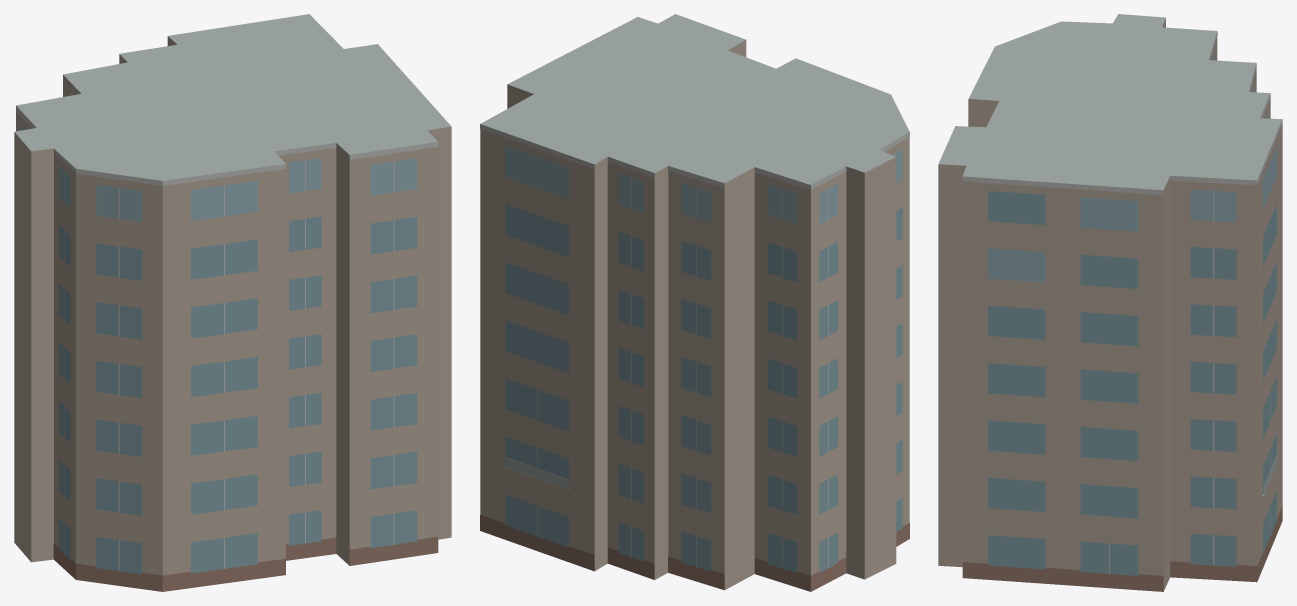
File: survey-upis-32945642.glb
The picture shows the model from 3 angles, left to right: view 1: azimuth 30°, elevation 25°; view 2: azimuth 150°, elevation 25°; view 3: azimuth 270°, elevation 25°; orthographic projection. The views are drawn at different scales.
Visible parts, largest first — view 1: survey-upis-32945642.tmp; view 2: survey-upis-32945642.tmp; view 3: survey-upis-32945642.tmp.
Boxes of the visible parts, <box> form: survey-upis-32945642.tmp: <box>14,14,451,591</box>; survey-upis-32945642.tmp: <box>480,14,909,591</box>; survey-upis-32945642.tmp: <box>938,14,1282,591</box>.
Bounding box in the file's own units: 18.6 × 19.75 × 15.35.
